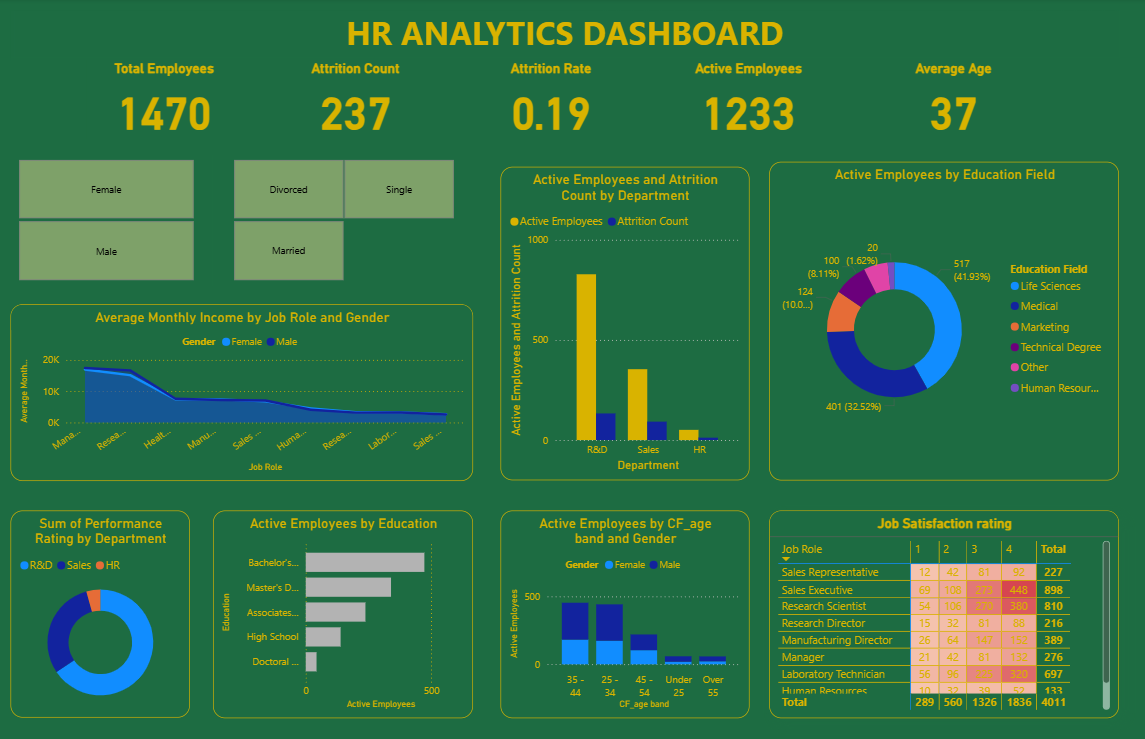

What the dashboard file says about the page in this screenshot:
{"tool":"powerbi","page":{"name":"Page 1","canvas":[1425,925],"ordinal":0},"visuals":[{"type":"card","title":"Total Employees","fields":{"Values":["Table1.Total Employees"]},"box":[110,77.5,192.2,97.6],"z":0},{"type":"card","title":"Attrition Count","fields":{"Values":["Table1.Attrition Count"]},"box":[342.5,77.5,201.5,97.6],"z":1000},{"type":"card","title":"Attrition Rate","fields":{"Values":["Table1.Attrition Rate"]},"box":[589,77.5,193.7,97.6],"z":2000},{"type":"card","title":"Active Employees","fields":{"Values":["Table1.Active Employees"]},"box":[837,77.5,187.5,97.6],"z":3000},{"type":"card","title":"Average Age","fields":{"Values":["Table1.Average Age"]},"box":[1086.5,77.5,196.8,97.6],"z":4000},{"type":"slicer","fields":{"Values":["Table1.Gender"]},"box":[0,194.2,266.3,162.9],"z":5000},{"type":"slicer","fields":{"Values":["Table1.Marital Status"]},"box":[266.6,193.7,322.4,162.7],"z":6000},{"type":"lineChart","fields":{"Category":["Table1.Job Role"],"Y":["Table1.Average Monthly Income"],"Series":["Table1.Gender"]},"box":[15.7,379.1,573.3,219.3],"z":7000},{"type":"clusteredColumnChart","fields":{"Y":["Table1.Active Employees","Table1.Attrition Count"],"Category":["Table1.Department"]},"box":[623.1,209.2,308.4,389],"z":8000},{"type":"donutChart","fields":{"Y":["Table1.Active Employees"],"Category":["Table1.Education Field"]},"box":[956.3,203,434,395.2],"z":9000},{"type":"donutChart","fields":{"Category":["Table1.Department"],"Y":["Sum(Table1.Performance Rating)"]},"box":[15.7,636,222.4,256.9],"z":10000},{"type":"clusteredBarChart","fields":{"Y":["Table1.Active Employees"],"Category":["Table1.Education"]},"box":[266.6,635.5,322.4,257.3],"z":11000},{"type":"columnChart","fields":{"Category":["Table1.CF_age band"],"Y":["Table1.Active Employees"],"Series":["Table1.Gender"]},"box":[623.1,635.5,308.4,257.3],"z":12000},{"type":"pivotTable","title":"Job Satisfaction rating","fields":{"Rows":["Table1.Job Role"],"Columns":["Table1.Job Satisfaction"],"Values":["Sum(Table1.Job Satisfaction)"]},"box":[956.3,635.5,434,257.3],"z":13000},{"type":"textbox","title":"HR ANALYTICS DASHBOARD","box":[14.9,14.9,1375,62.5],"z":14000}]}

Visuals, with their boxes in screenshot pixels (x1, y1, x2, y2), scaled from the page's 1425x925 canvas onto the 1145x739 screenshot:
"Total Employees" card: <bbox>88, 62, 243, 140</bbox>
"Attrition Count" card: <bbox>275, 62, 437, 140</bbox>
"Attrition Rate" card: <bbox>473, 62, 629, 140</bbox>
"Active Employees" card: <bbox>673, 62, 823, 140</bbox>
"Average Age" card: <bbox>873, 62, 1031, 140</bbox>
slicer - Table1.Gender: <bbox>0, 155, 214, 285</bbox>
slicer - Table1.Marital Status: <bbox>214, 155, 473, 285</bbox>
lineChart - Table1.Job Role x Table1.Average Monthly Income: <bbox>13, 303, 473, 478</bbox>
clusteredColumnChart - Table1.Active Employees x Table1.Attrition Count: <bbox>501, 167, 748, 478</bbox>
donutChart - Table1.Active Employees x Table1.Education Field: <bbox>768, 162, 1117, 478</bbox>
donutChart - Table1.Department x Sum(Table1.Performance Rating): <bbox>13, 508, 191, 713</bbox>
clusteredBarChart - Table1.Active Employees x Table1.Education: <bbox>214, 508, 473, 713</bbox>
columnChart - Table1.CF_age band x Table1.Active Employees: <bbox>501, 508, 748, 713</bbox>
"Job Satisfaction rating" pivotTable: <bbox>768, 508, 1117, 713</bbox>
"HR ANALYTICS DASHBOARD" textbox: <bbox>12, 12, 1117, 62</bbox>
